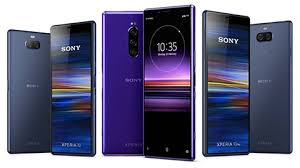sony: (141, 3, 197, 163), (202, 8, 252, 157), (47, 20, 96, 158), (248, 20, 294, 157), (100, 8, 142, 157), (6, 29, 49, 155)
